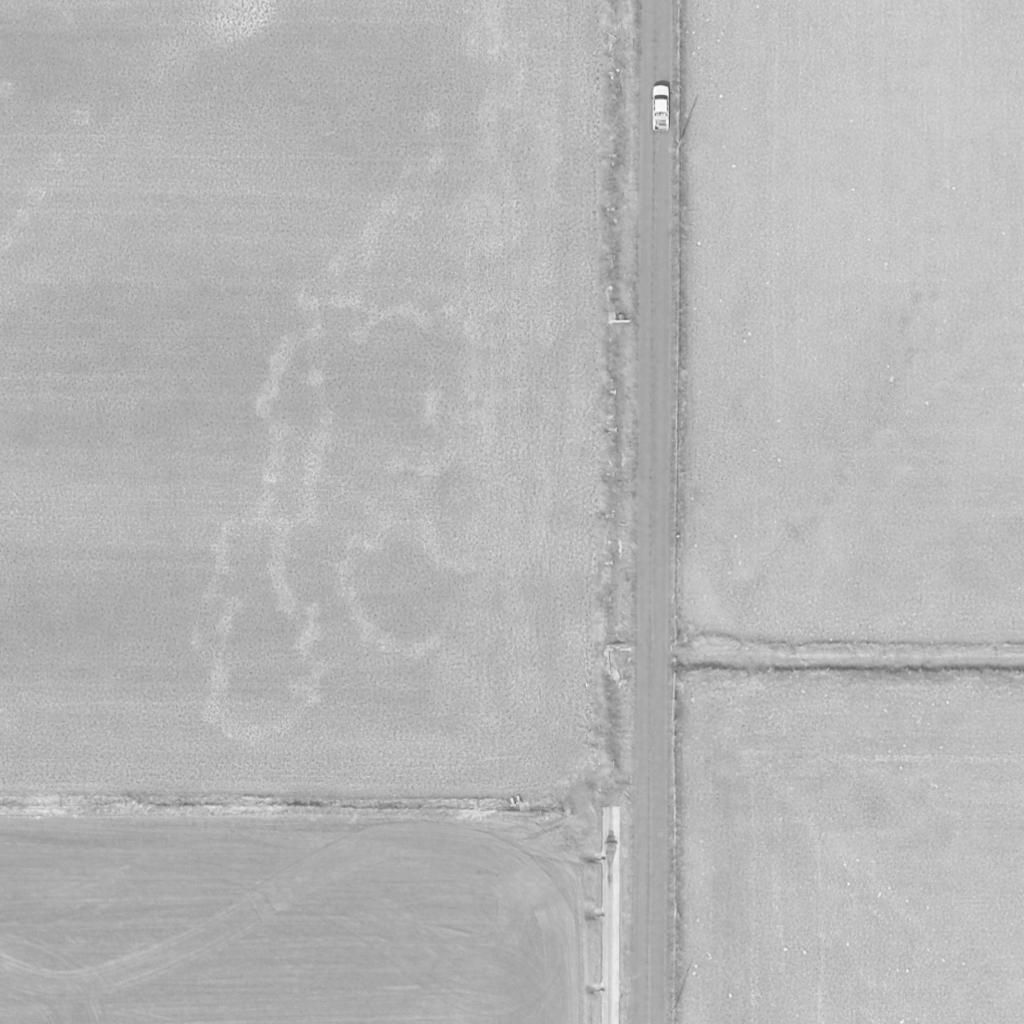vehicle: (651, 84, 671, 132)
